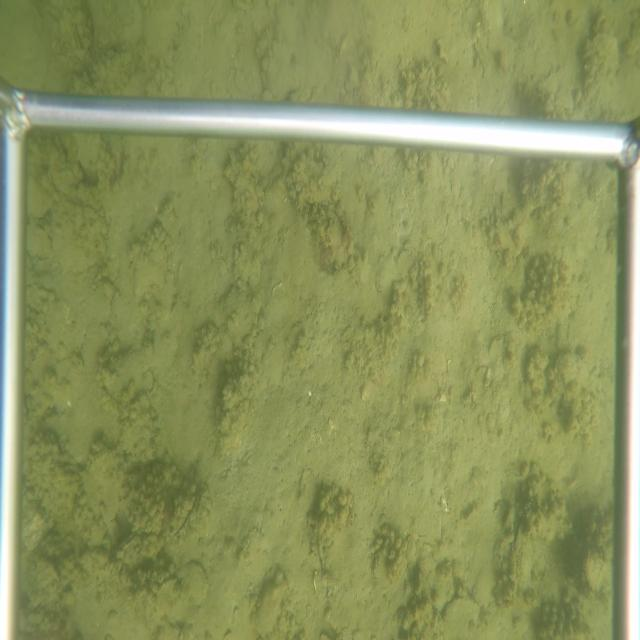Oyster-Indeterminate: (160, 556, 211, 626), (252, 570, 290, 640), (441, 596, 482, 622)
